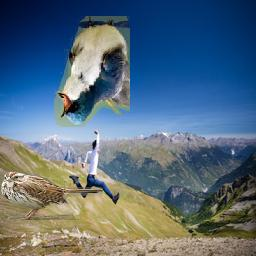Sparrow: (1, 170, 104, 220)
Swallow: (54, 17, 130, 128)
